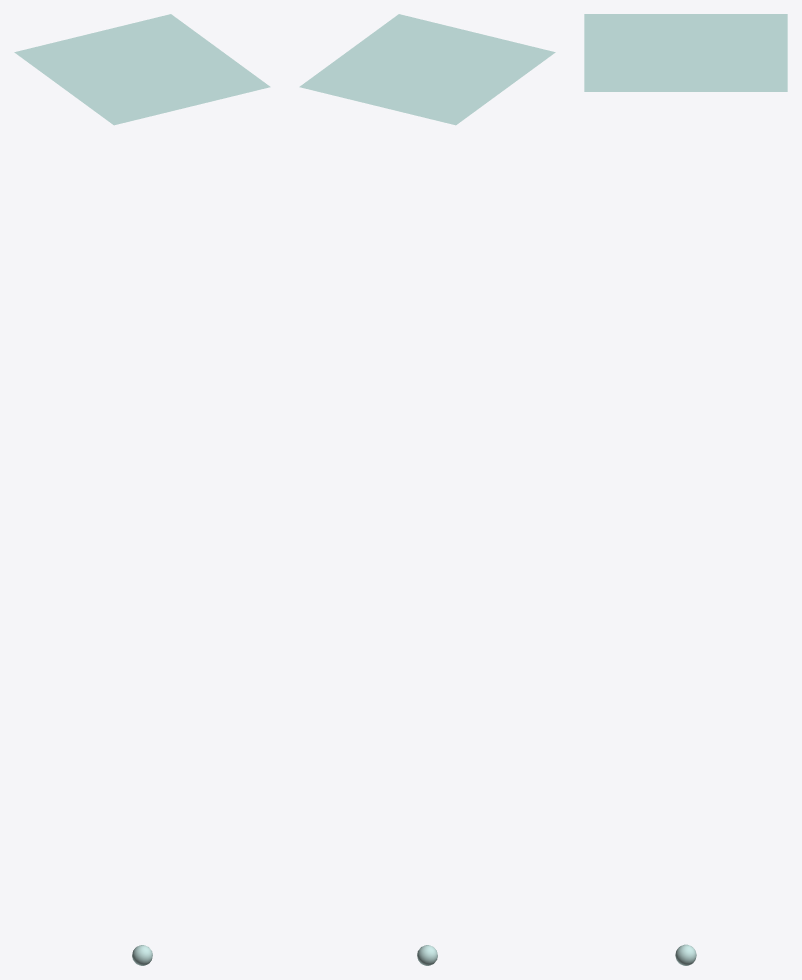
File: drop.gltf
The picture shows the model from 3 angles, left to right: view 1: azimuth 30°, elevation 25°; view 2: azimuth 150°, elevation 25°; view 3: azimuth 270°, elevation 25°; orthographic projection.
Parts seen in each view (by area): view 1: 平面; view 2: 平面; view 3: 平面.
Part boxes in pixels (bbox=[...]): 平面: bbox=[14, 14, 270, 125]; 平面: bbox=[299, 14, 555, 125]; 平面: bbox=[584, 14, 787, 91].
Size of the model in its own units: 431 by 2349 by 475.
